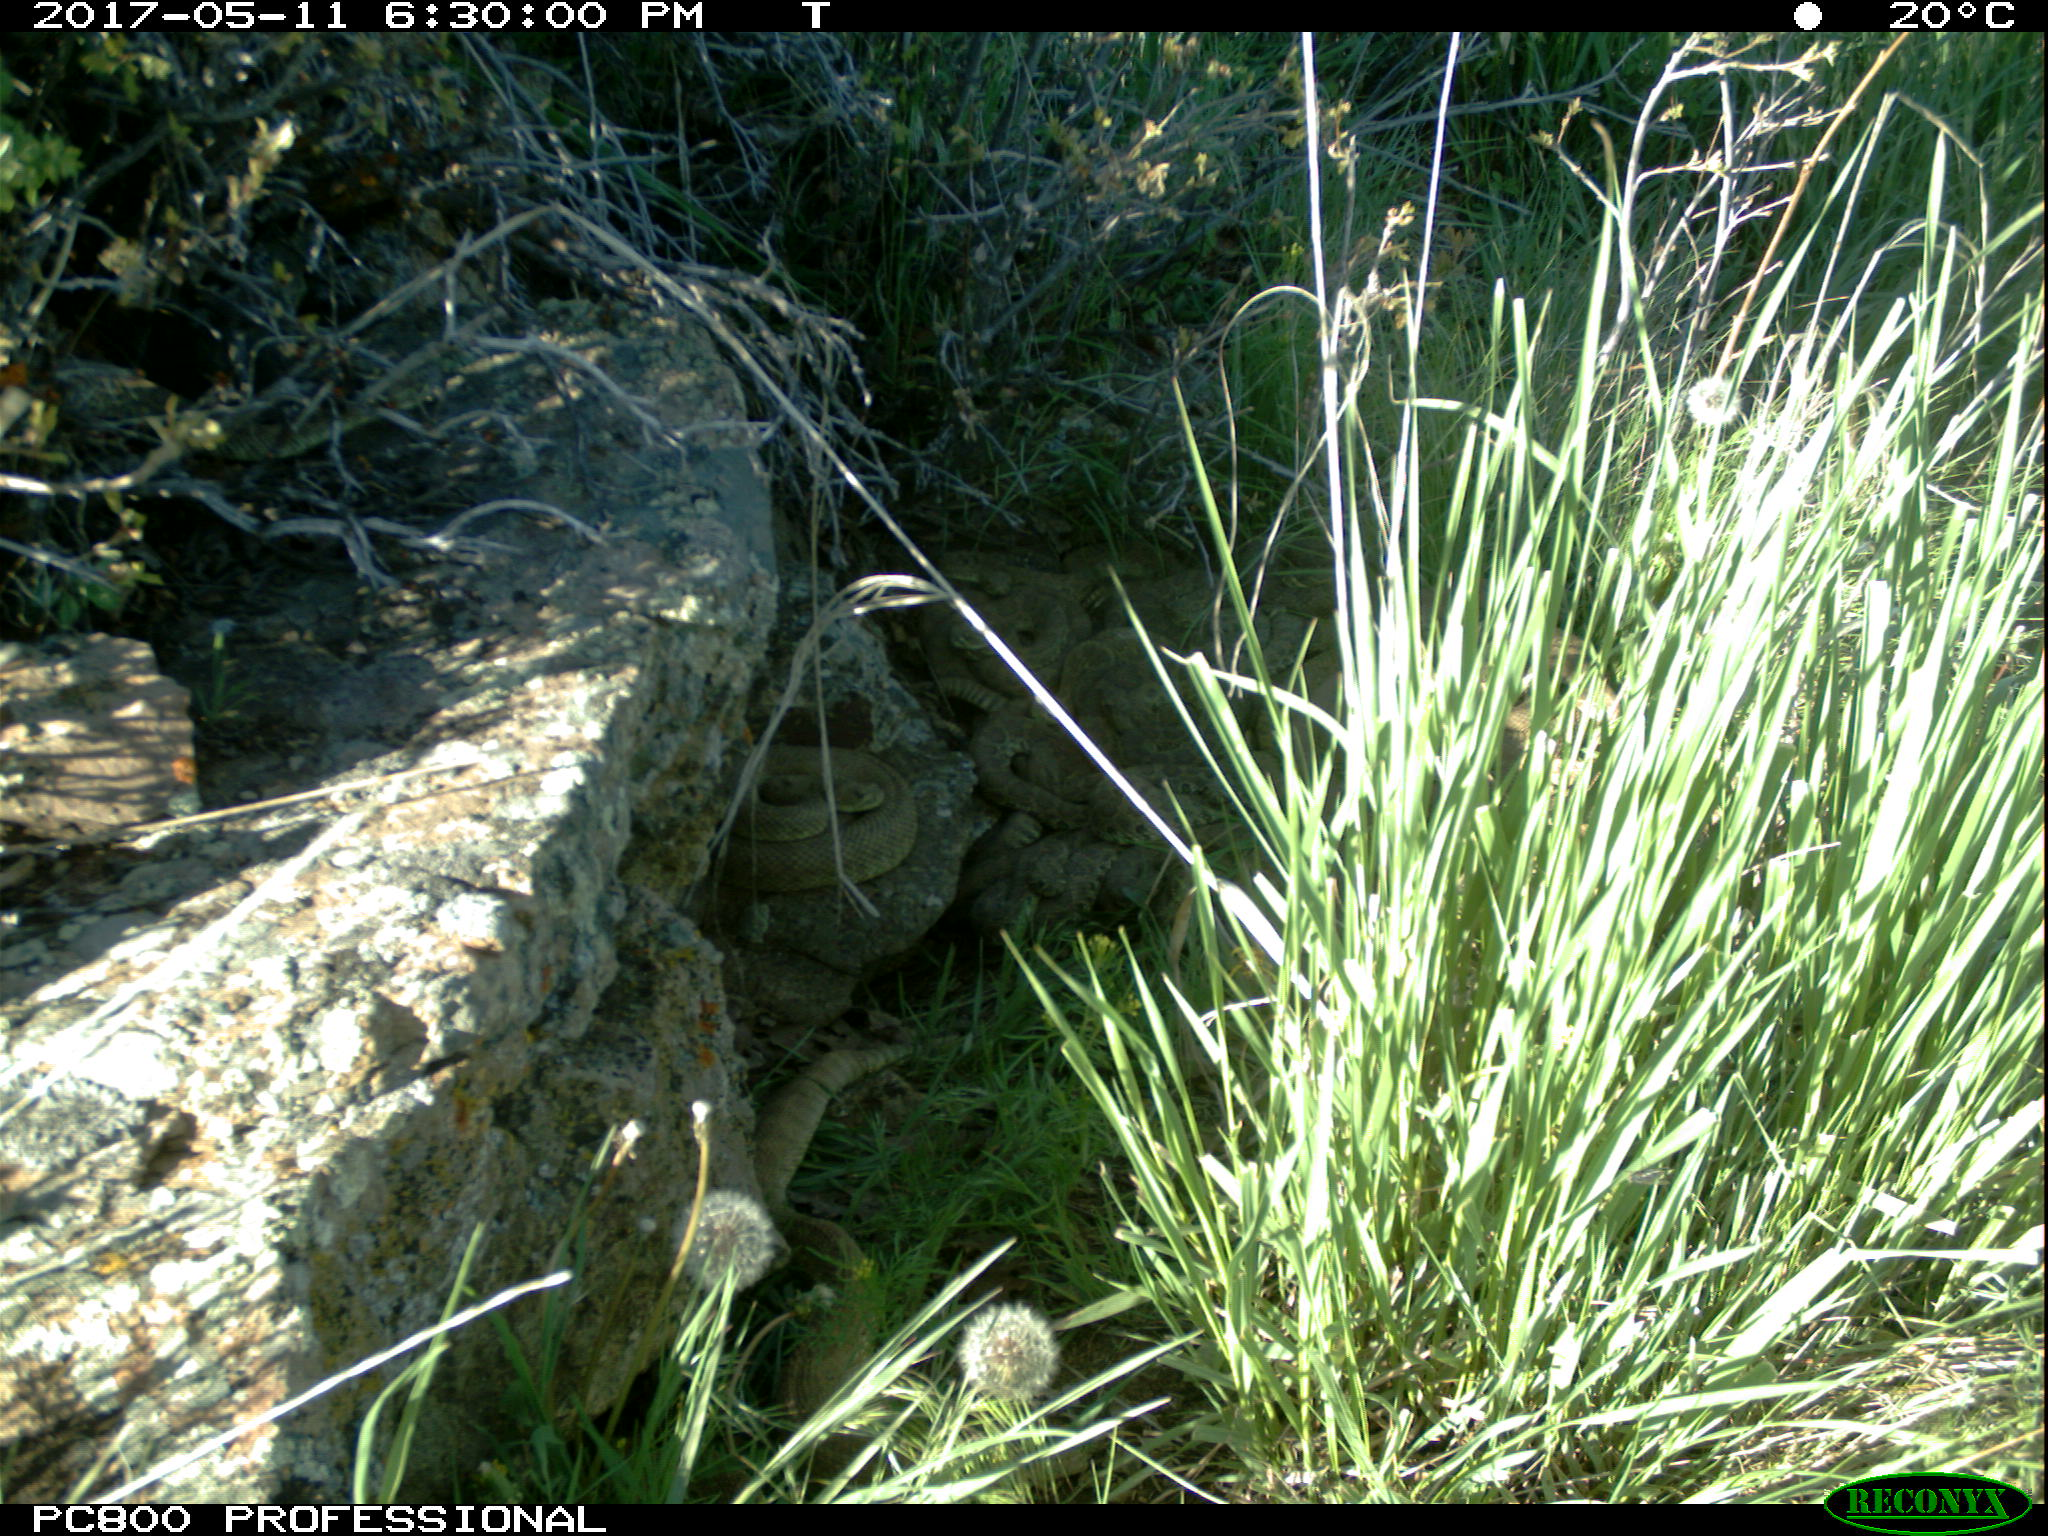snake: (963, 703, 1232, 850), (1084, 558, 1321, 682), (721, 742, 914, 894), (751, 1039, 908, 1218), (900, 552, 1076, 707), (961, 818, 1126, 933), (1498, 623, 1625, 752), (780, 1205, 877, 1296)
